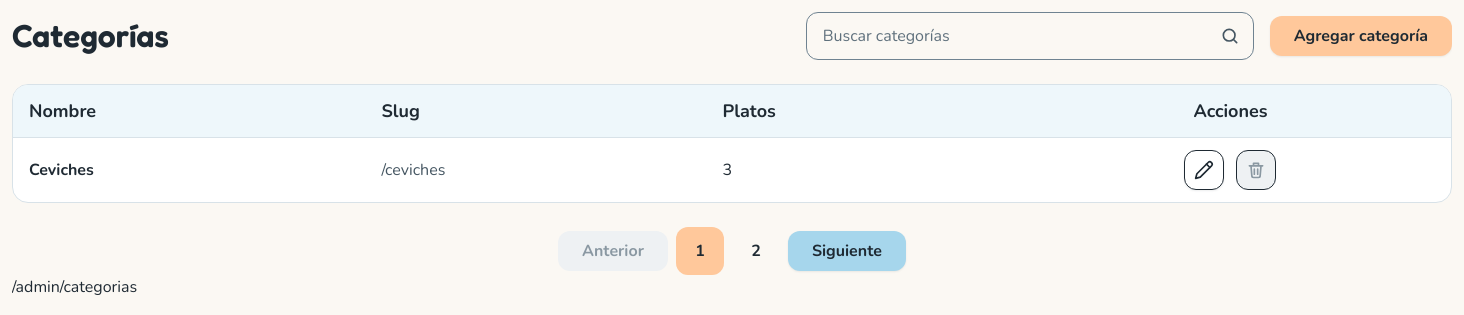
it: AdminCategoriesPage › con varias páginas muestra la navegación y pasar de página cambia la URL
Check: the column heading "Ceviches" is shown, box [13,138,365,202]
Click the button "Siguiente". click: (847, 251)
box: [788,231,906,271]
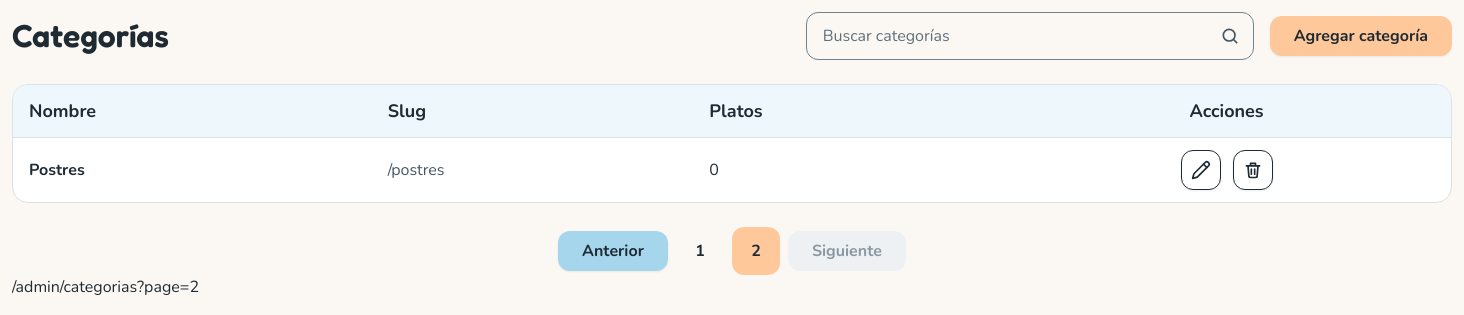
Check: the column heading "Postres" is shown, box [13,138,372,202]
Check: the text with test id "location" reads "/admin/categorias?page=2", box [12,276,199,298]
